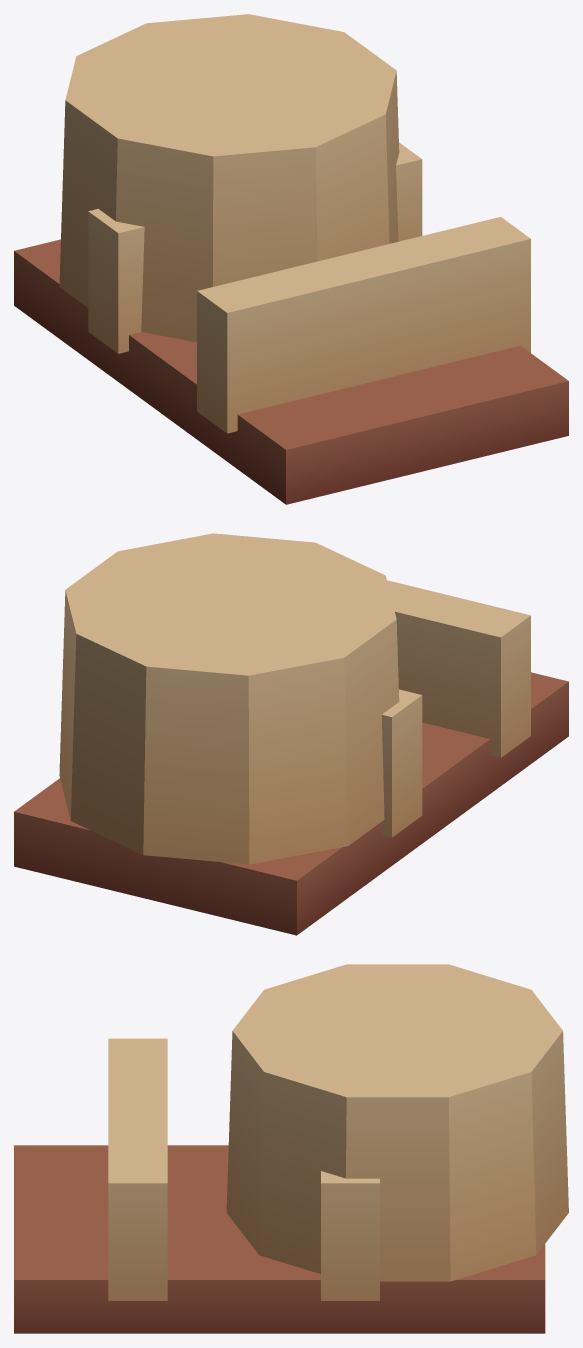
File: sandals.glb
3 views of the same model, one above another, from view 1: azimuth 30°, elevation 25°; view 2: azimuth 150°, elevation 25°; view 3: azimuth 270°, elevation 25° (orthographic). The views are drawn at different scales.
Visible parts, largest first — view 1: sandals; view 2: sandals; view 3: sandals.
Boxes of the visible parts, left/top/right/bottom form: sandals: left=14, top=14, right=568, bottom=504; sandals: left=14, top=533, right=568, bottom=935; sandals: left=14, top=964, right=568, bottom=1333.
Bounding box in the file's own units: 0.29 × 0.22 × 0.47.
1 material, 1 textured.
